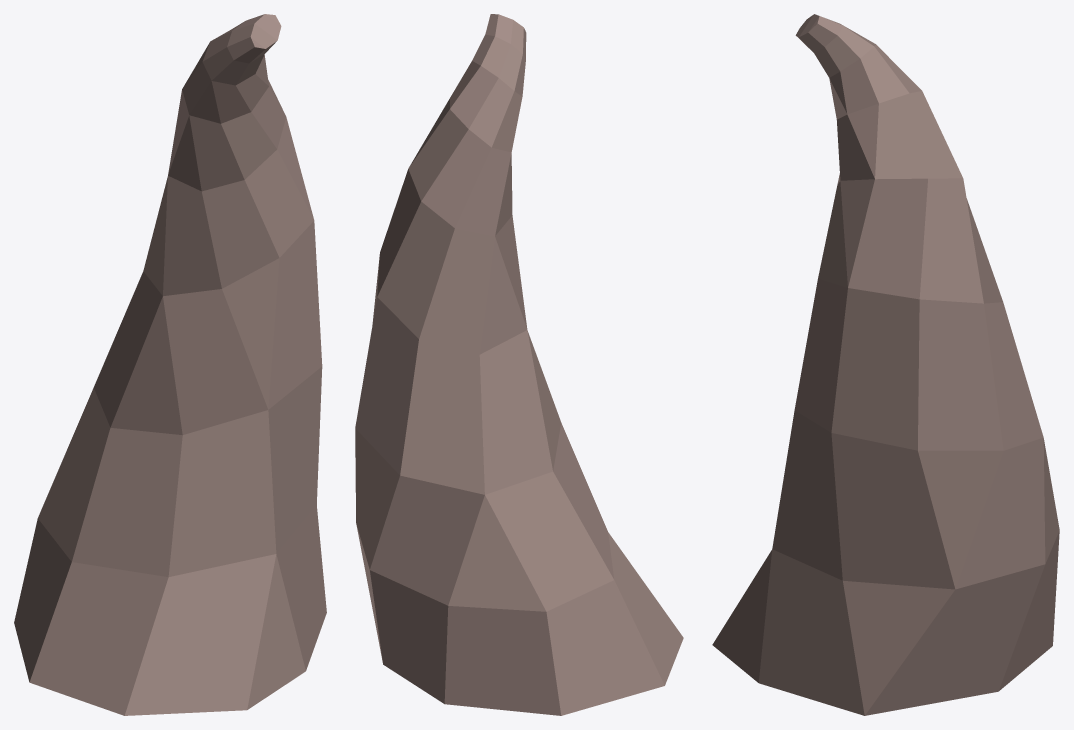
Rendered from Rock_18.fbx.
The picture shows the model from 3 angles, left to right: view 1: azimuth 30°, elevation 25°; view 2: azimuth 150°, elevation 25°; view 3: azimuth 270°, elevation 25°; orthographic projection. The views are drawn at different scales.
Visible parts, largest first — view 1: Rock_18; view 2: Rock_18; view 3: Rock_18.
Part boxes in pixels (<box>): Rock_18: <box>14,14,326,715</box>; Rock_18: <box>355,14,683,715</box>; Rock_18: <box>712,14,1059,715</box>.
Bounding box in the file's own units: 2.74 × 5.64 × 2.67.
